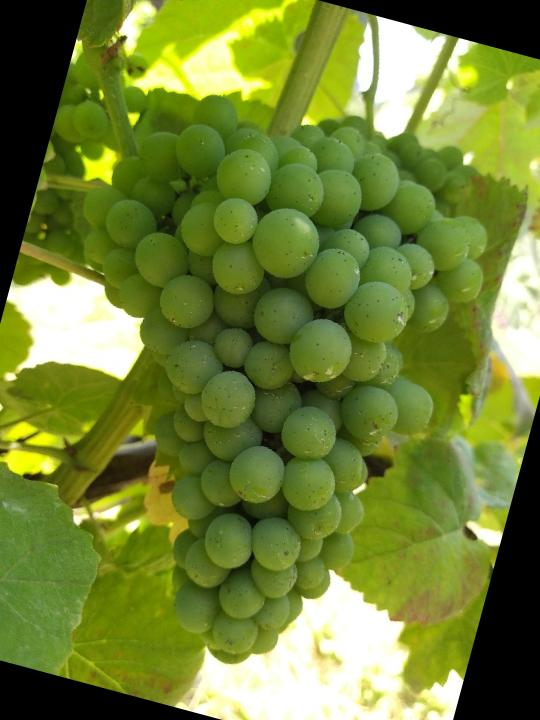grape: (0, 66, 513, 704)
